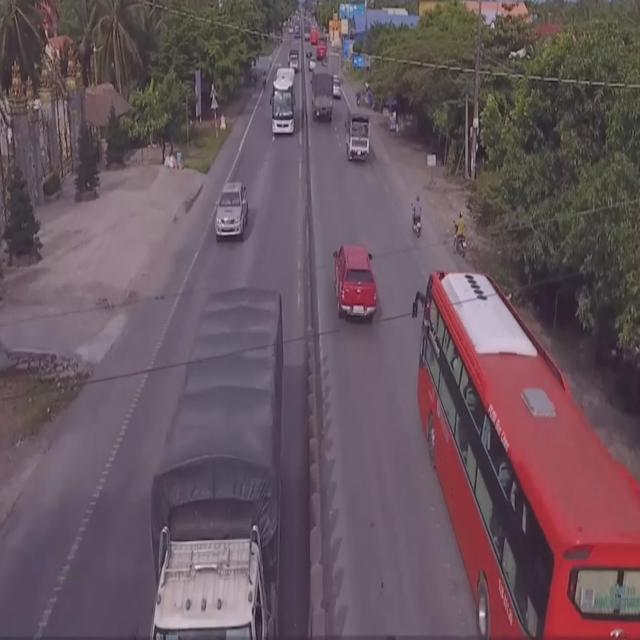bus: (416, 270, 640, 639), (270, 66, 297, 139)
car: (332, 241, 378, 324), (214, 181, 246, 241)
motorbike: (409, 192, 425, 241), (454, 212, 466, 258)
truck: (146, 286, 282, 640), (309, 65, 336, 126), (346, 111, 373, 168)
